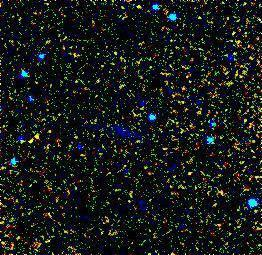star: (18, 123, 48, 153)
